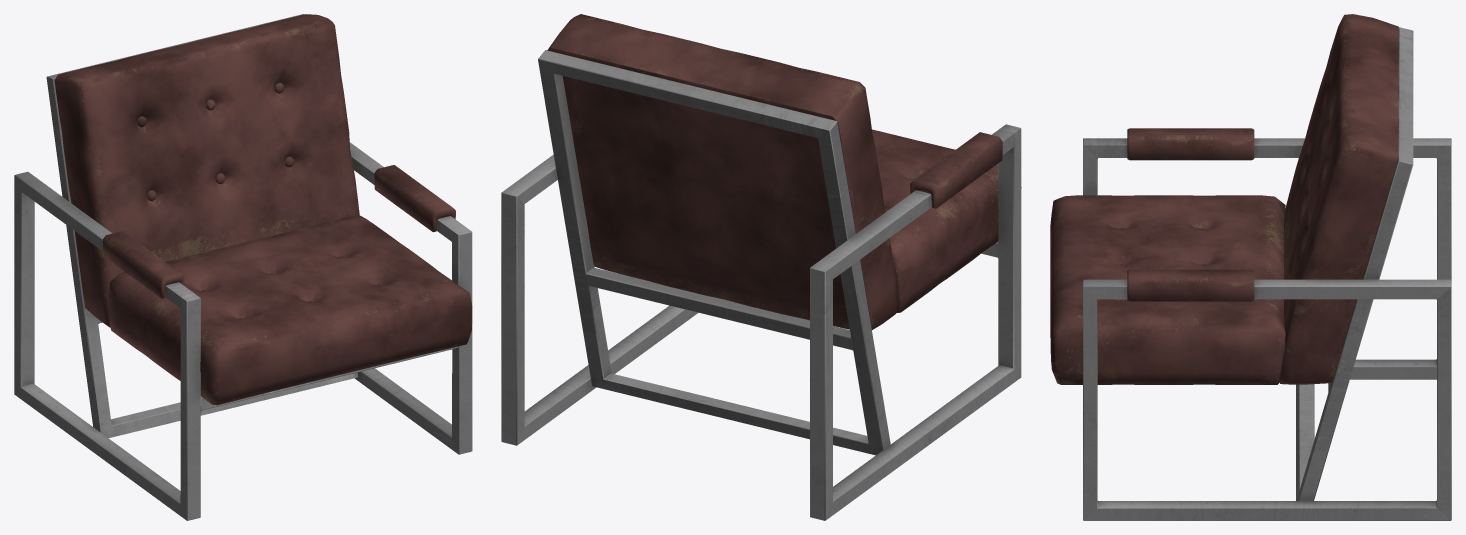
3 renders of one model, left to right at view 1: azimuth 30°, elevation 25°; view 2: azimuth 150°, elevation 25°; view 3: azimuth 270°, elevation 25°, orthographic. The views are drawn at different scales.
Visible parts, largest first — view 1: seat_low, frame1_low, frame2_low, handrest_low; view 2: seat_low, frame1_low, frame2_low, handrest_low; view 3: seat_low, frame1_low, frame2_low, handrest_low.
Boxes of the visible parts, left/top/right/bottom form: seat_low: left=54, top=14, right=472, bottom=405; frame1_low: left=14, top=142, right=472, bottom=520; frame2_low: left=46, top=14, right=358, bottom=438; handrest_low: left=102, top=165, right=455, bottom=298; seat_low: left=547, top=14, right=1021, bottom=329; frame1_low: left=501, top=124, right=1021, bottom=520; frame2_low: left=538, top=50, right=890, bottom=455; handrest_low: left=910, top=132, right=1002, bottom=208; seat_low: left=1050, top=14, right=1398, bottom=384; frame1_low: left=1083, top=138, right=1451, bottom=520; frame2_low: left=1296, top=27, right=1413, bottom=500; handrest_low: left=1127, top=128, right=1254, bottom=301.
Size of the model in its own units: 1.79 by 2 by 1.98.
Materials: 2 (2 with a texture image).
